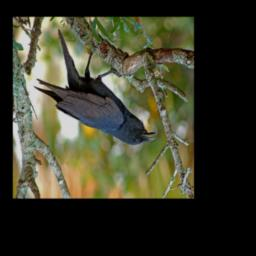Crow: (32, 28, 157, 146)
